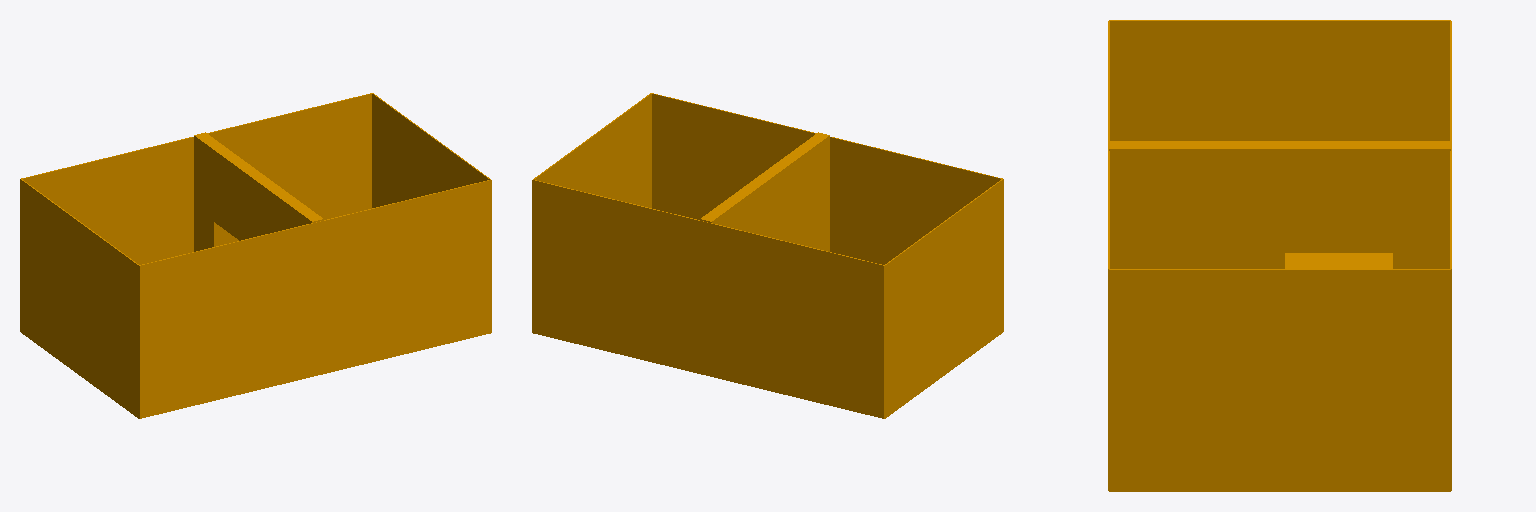
robot.urdf — world:
<?xml version="1.0" ?>
<robot name="world">
  <link name="floor">

    <visual>
      <origin rpy="0 0 0" xyz="0 0 0"/>
      <geometry>
        <!-- <mesh filename="package://robots/meshes/env/corridor.obj" scale="1. 1. 1."/>  -->
        <mesh filename="package://robots/meshes/env/LAAS_indoor_window.obj" scale="1. 1. 1."/> 
      </geometry>
    </visual>
    <collision>
      <origin rpy="0 0 0" xyz="0 0 0"/>
      <geometry>
	 	    <!-- <mesh filename="package://robots/meshes/env/corridor.obj" scale="1. 1. 1."/> -->
        <mesh filename="package://robots/meshes/env/LAAS_indoor_window.obj" scale="1. 1. 1."/>
      </geometry>
    </collision>
  </link>

</robot>

--- Facts derived from the render (not from the file) ---
3 views of the same robot in one strip: view 1: azimuth 30°, elevation 25°; view 2: azimuth 150°, elevation 25°; view 3: azimuth 270°, elevation 25° (orthographic).
Robot: world — 1 links, 0 joints (none); root link floor; default pose: all joints at 0.
Visible links, largest first — view 1: floor; view 2: floor; view 3: floor.
Boxes of the visible links, <box> form: floor: <box>20,93,491,418</box>; floor: <box>532,93,1003,418</box>; floor: <box>1108,20,1451,491</box>.
Bounding box of the posed robot: 6.02 × 3.52 × 2.52 m (x, y, z).
1 mesh visuals loaded from 1 distinct referenced files (1 OBJ).